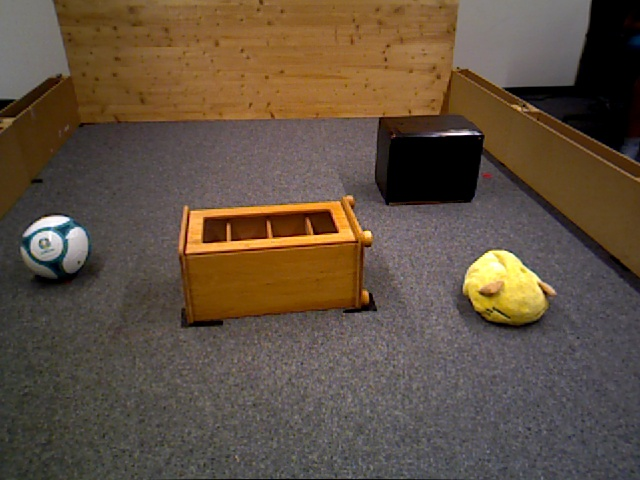grasp: (462, 248, 548, 328)
kick: (21, 214, 91, 281)
push: (376, 116, 484, 206)
